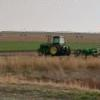Tractor: (32, 31, 82, 65)
